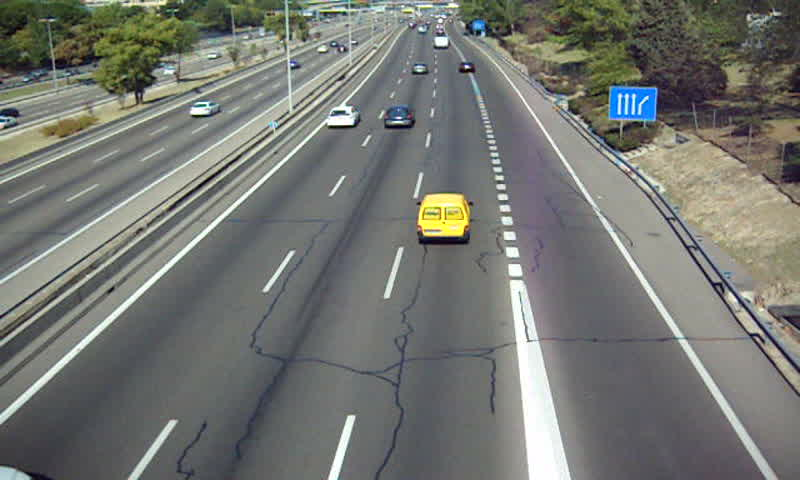car: (382, 106, 416, 130), (327, 106, 360, 127), (410, 62, 429, 77), (458, 60, 477, 74)
van: (417, 193, 470, 245)
